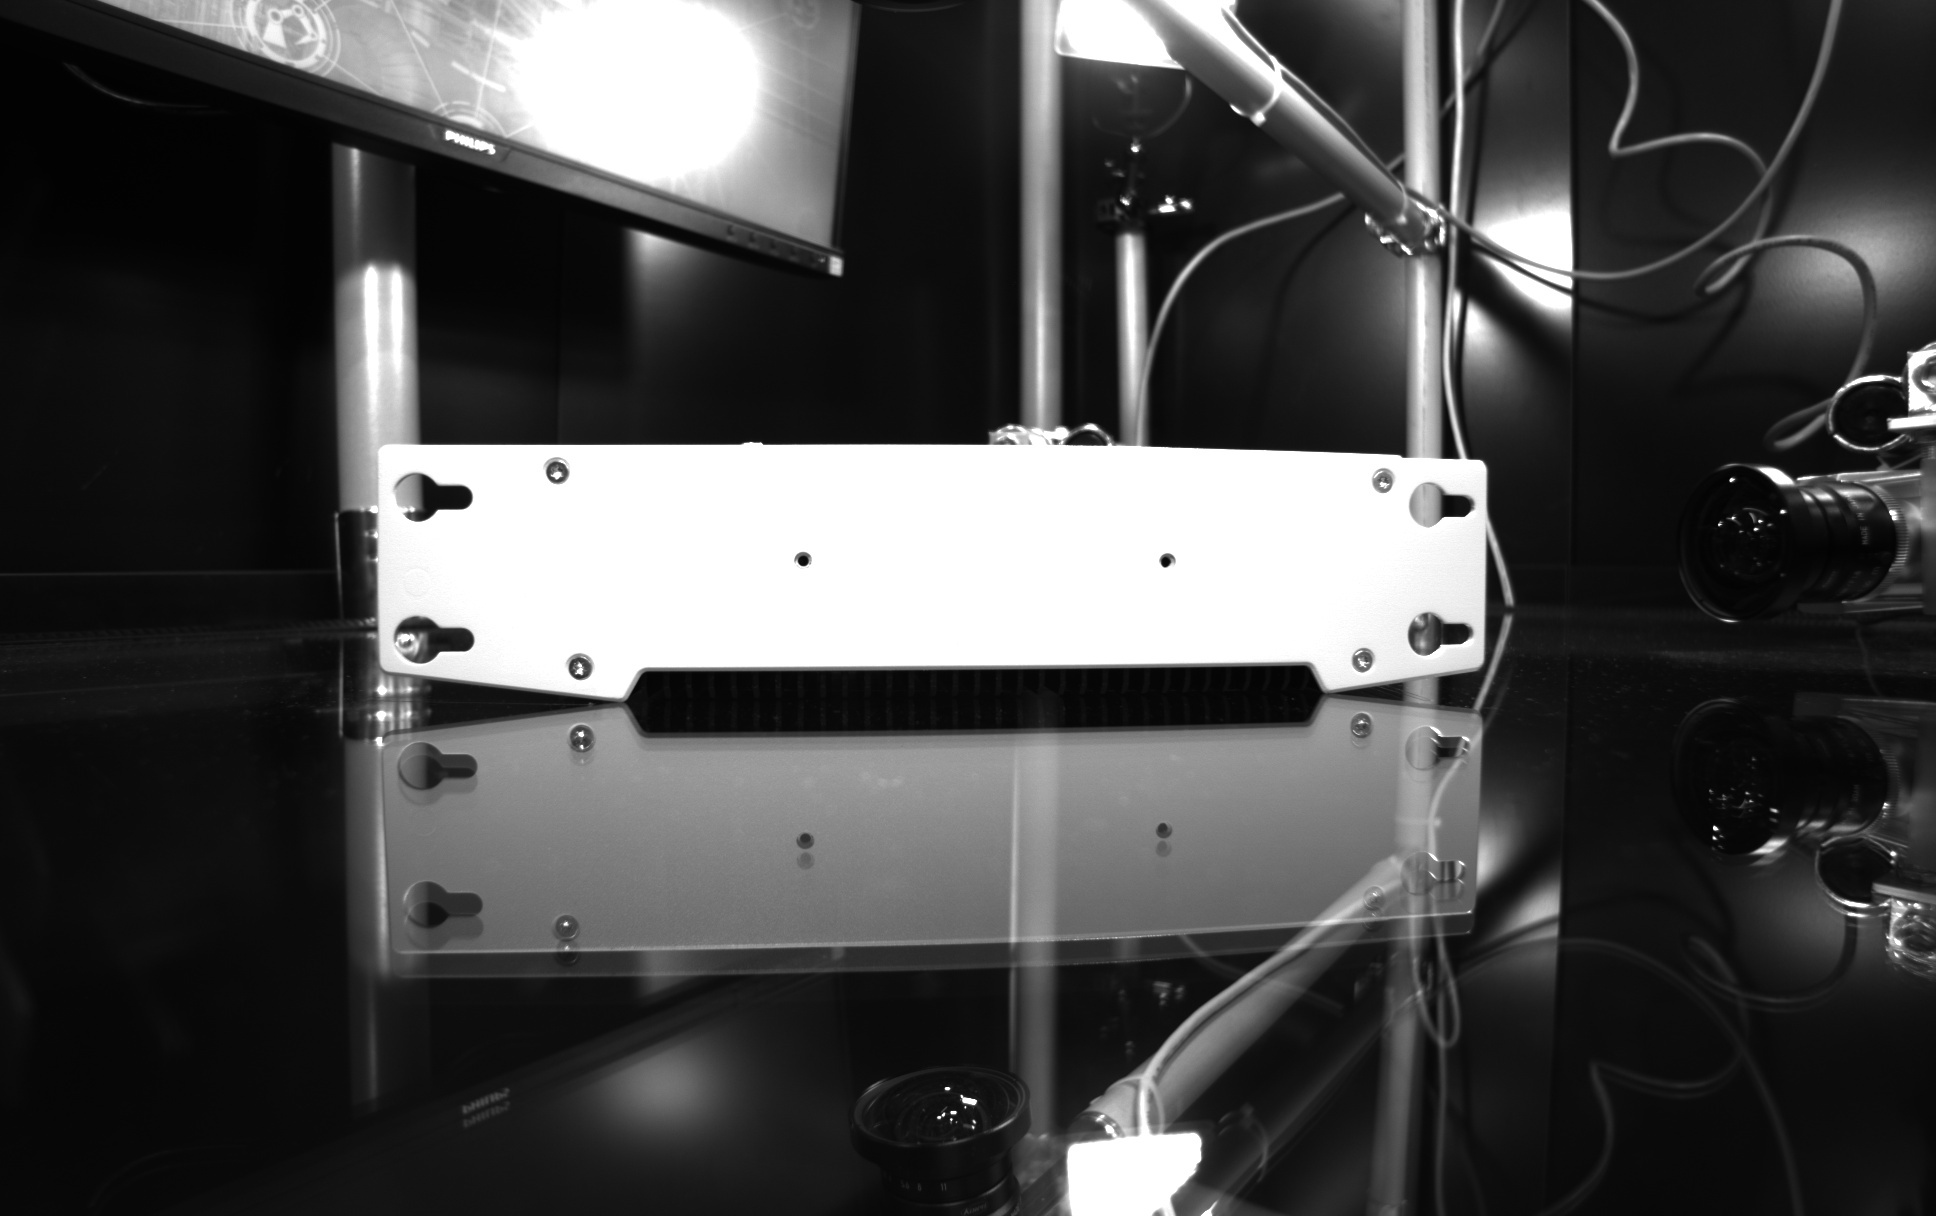CamBack: (352, 423, 1513, 696)
Schraube: (539, 452, 579, 493), (562, 646, 601, 686), (1342, 642, 1381, 682), (1364, 462, 1404, 502)
Schraube_gespiegelt: (545, 909, 588, 975), (560, 719, 602, 776), (1355, 881, 1392, 944), (1338, 709, 1381, 758)
